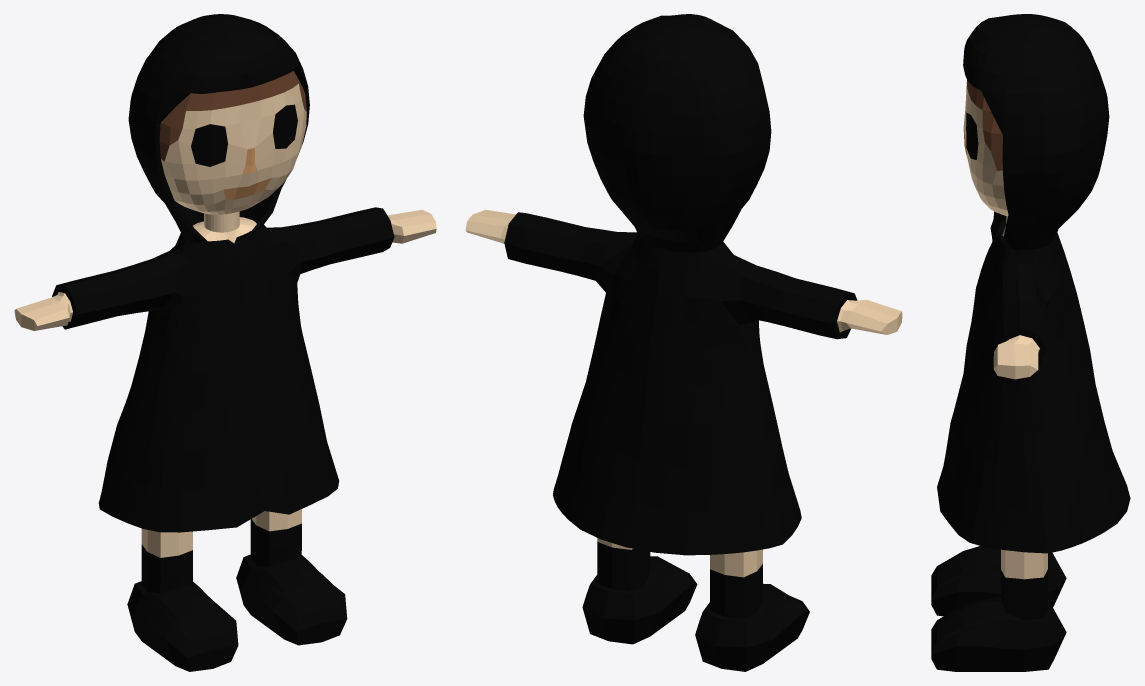
Rendered from LittleRedRidingHood.fbx.
3 views of the same model, side by side, from view 1: azimuth 30°, elevation 25°; view 2: azimuth 150°, elevation 25°; view 3: azimuth 270°, elevation 25° (orthographic). The views are drawn at different scales.
Parts seen in each view (by area): view 1: Redcap; view 2: Redcap; view 3: Redcap.
Boxes of the visible parts, box(x1,y1,x2,y2) form: Redcap: box(14, 14, 436, 671); Redcap: box(465, 14, 902, 671); Redcap: box(931, 14, 1130, 671).
Bounding box in the file's own units: 0.2546 × 0.3554 × 0.105.
